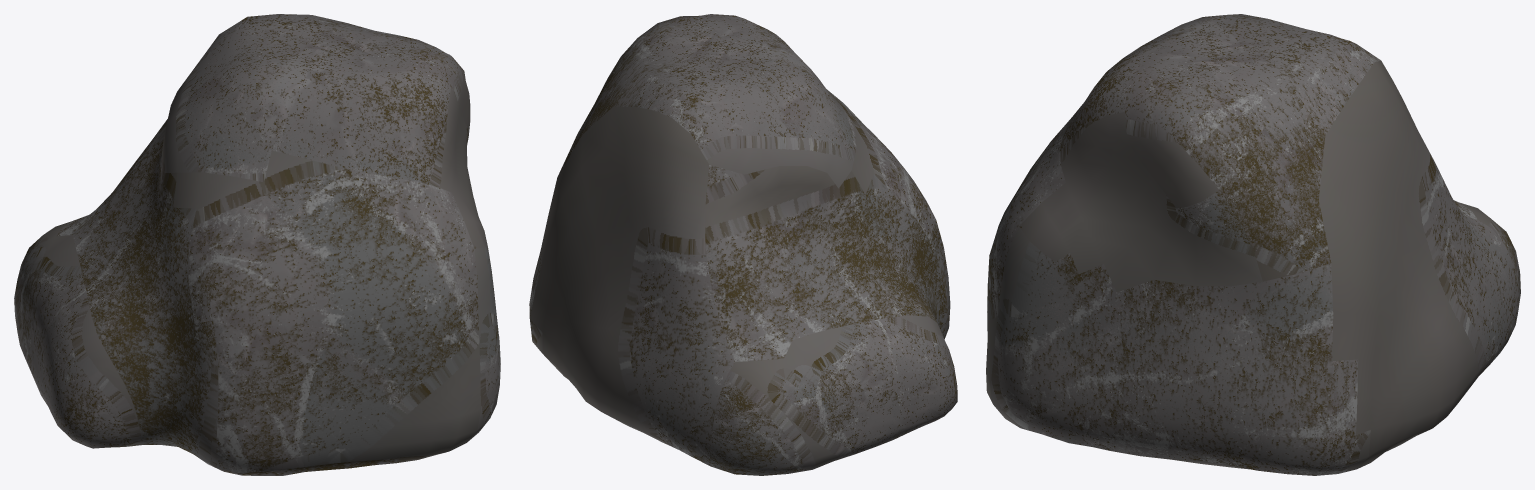
Rendered from rock1.fbx.
3 views of the same model, side by side, from view 1: azimuth 30°, elevation 25°; view 2: azimuth 150°, elevation 25°; view 3: azimuth 270°, elevation 25° (orthographic). The views are drawn at different scales.
Visible parts, largest first — view 1: 돌_low; view 2: 돌_low; view 3: 돌_low.
Boxes of the visible parts, x1,y1,x2,y2 form: 돌_low: [14, 14, 500, 475]; 돌_low: [529, 14, 957, 475]; 돌_low: [986, 14, 1520, 475].
Size of the model in its own units: 475 by 363 by 480.
